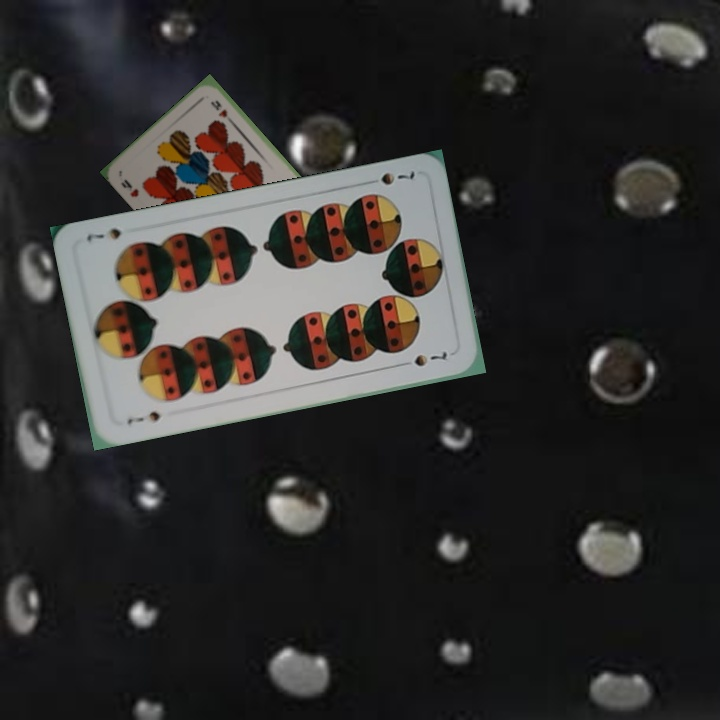H9: (117, 175, 142, 200)
S7: (376, 167, 417, 188), (123, 407, 163, 428)
